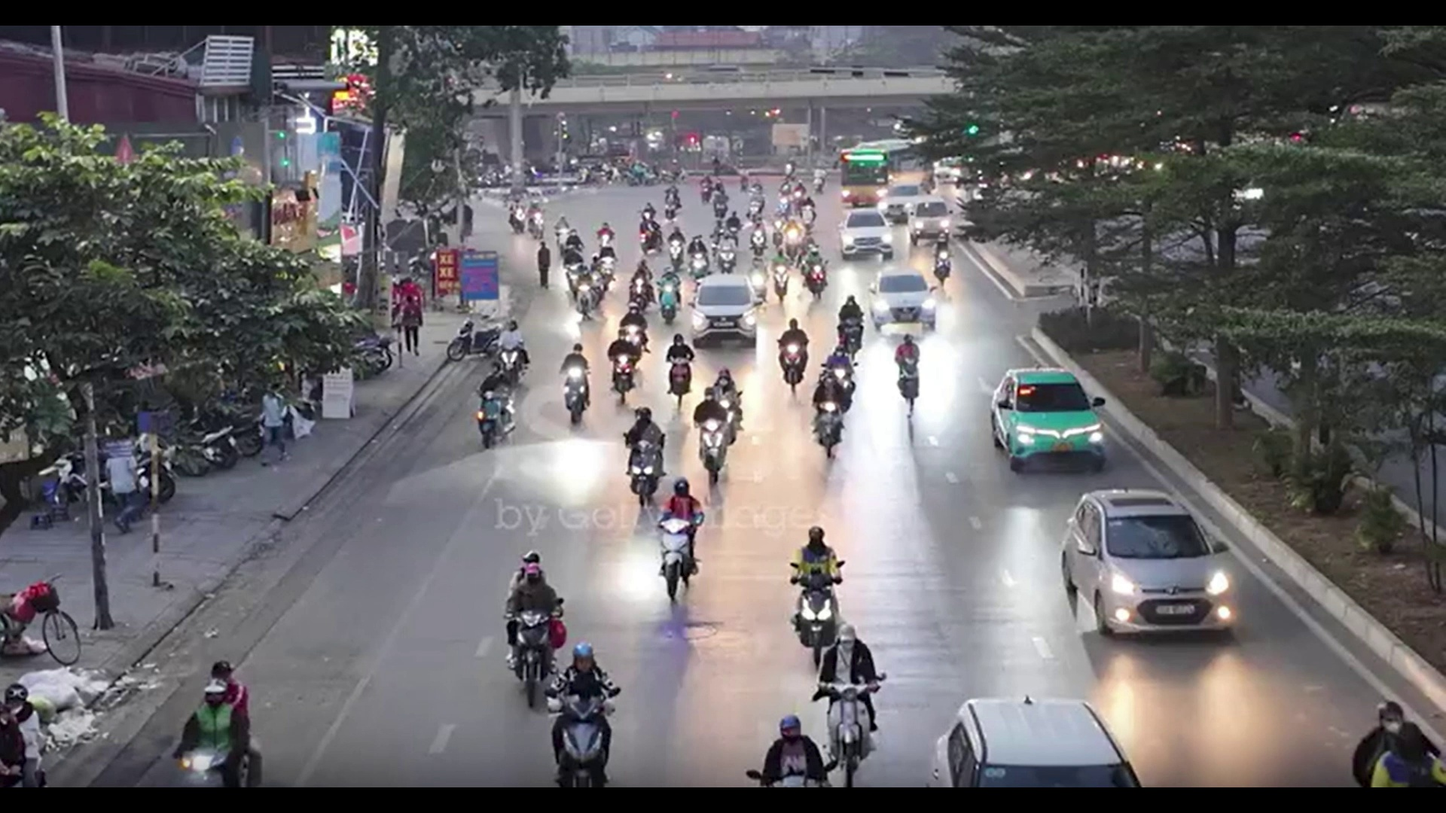car: (1060, 487, 1242, 639), (932, 695, 1142, 787), (989, 366, 1109, 472), (690, 275, 760, 346), (874, 267, 935, 331), (840, 209, 895, 261)
motorcycle: (547, 683, 618, 788), (476, 390, 516, 450)
